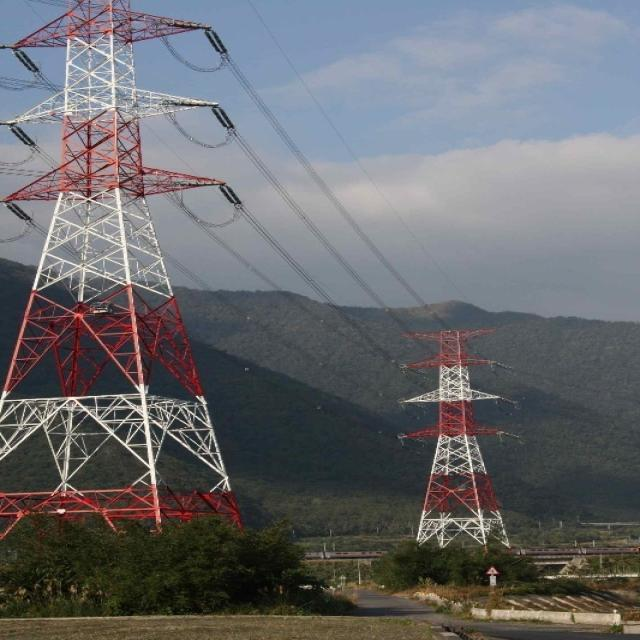non-critical vegetation: (14, 4, 233, 520), (384, 314, 527, 544)
